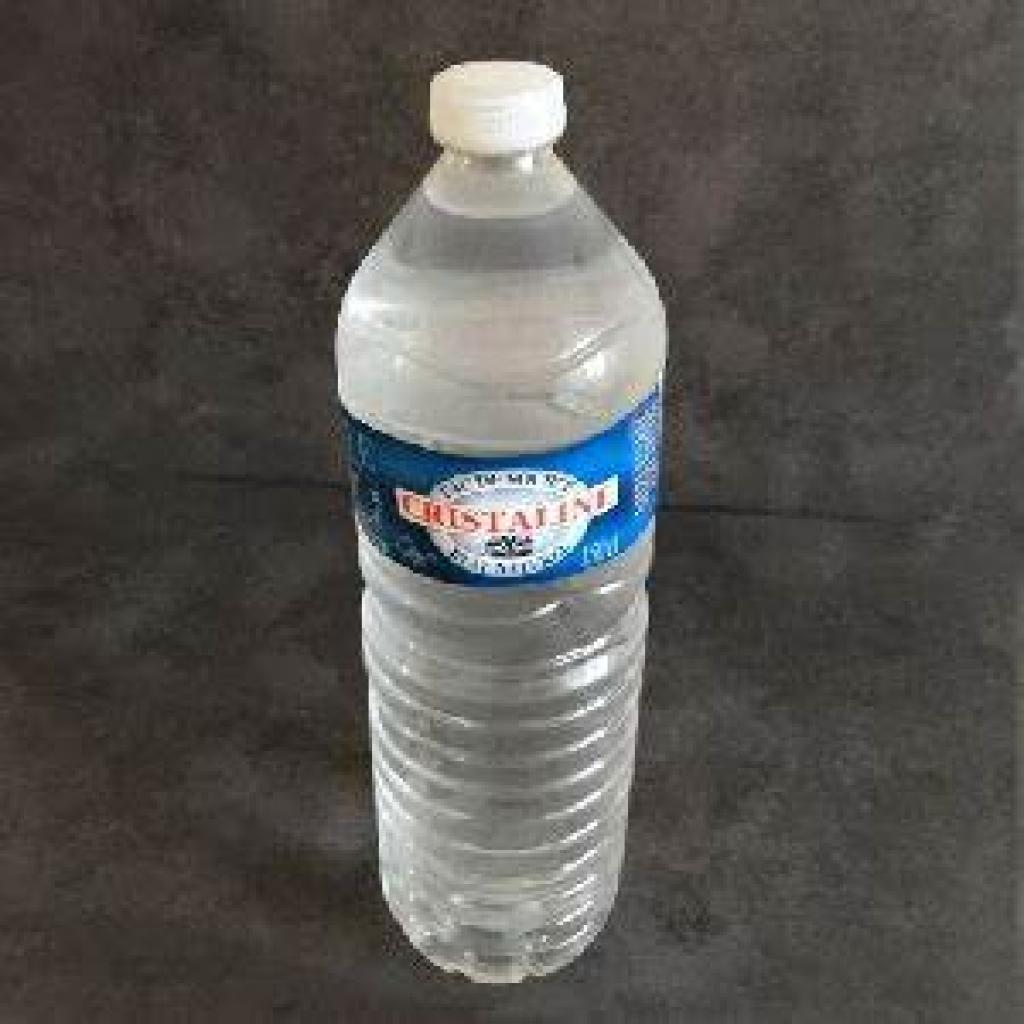plastic: (327, 52, 680, 996)
